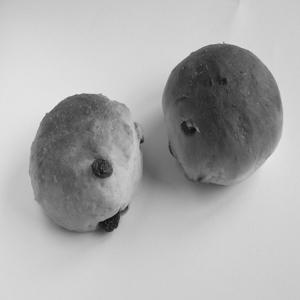bread: (14, 79, 148, 241), (158, 34, 284, 195)
